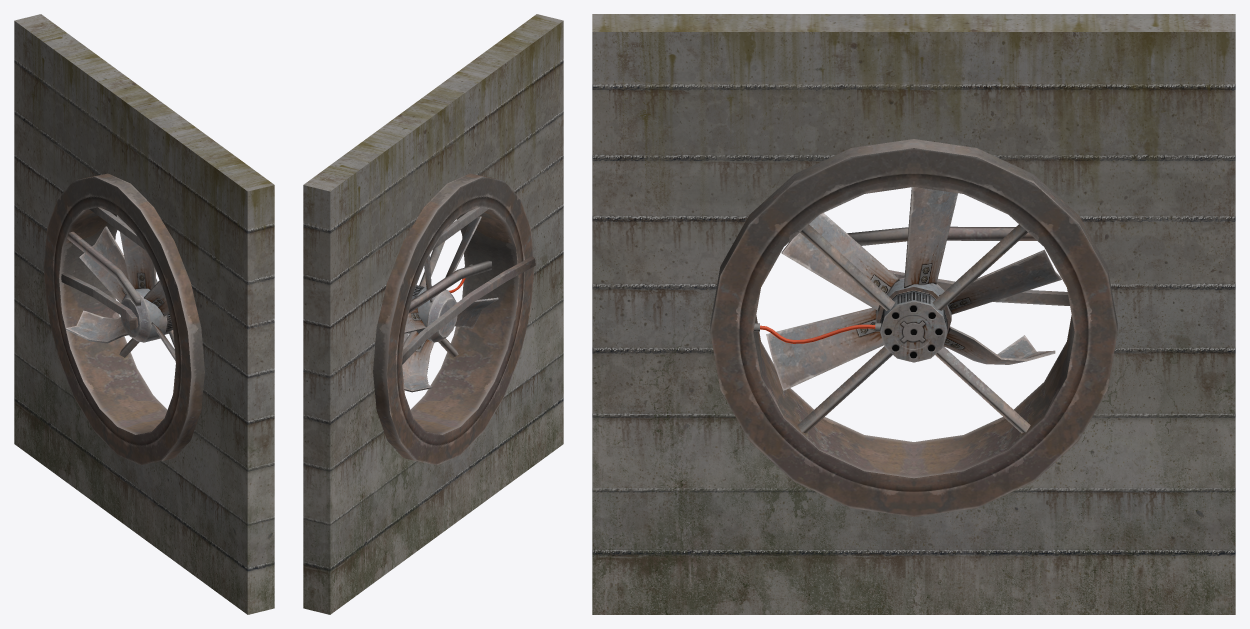
The model's file is wall01_industrialFan_broken.fbx.
3 renders of one model, left to right at view 1: azimuth 30°, elevation 25°; view 2: azimuth 150°, elevation 25°; view 3: azimuth 270°, elevation 25°, orthographic. The views are drawn at different scales.
Visible parts, largest first — view 1: wall01_industrialFan_broken, wall01_fan_broken, wall01_fan_blades_broken; view 2: wall01_industrialFan_broken, wall01_fan_broken, wall01_fan_blades_broken; view 3: wall01_industrialFan_broken, wall01_fan_broken, wall01_fan_blades_broken.
Part boxes in pixels (x1=…): wall01_industrialFan_broken: x1=14, y1=14, x2=274, y2=614; wall01_fan_broken: x1=43, y1=173, x2=204, y2=465; wall01_fan_blades_broken: x1=65, y1=215, x2=175, y2=360; wall01_industrialFan_broken: x1=303, y1=14, x2=563, y2=614; wall01_fan_broken: x1=373, y1=173, x2=535, y2=465; wall01_fan_blades_broken: x1=402, y1=216, x2=498, y2=392; wall01_industrialFan_broken: x1=592, y1=14, x2=1235, y2=614; wall01_fan_broken: x1=710, y1=139, x2=1117, y2=516; wall01_fan_blades_broken: x1=766, y1=187, x2=1061, y2=390.
Bounding box in the file's own units: 0.6328 × 3 × 3.
